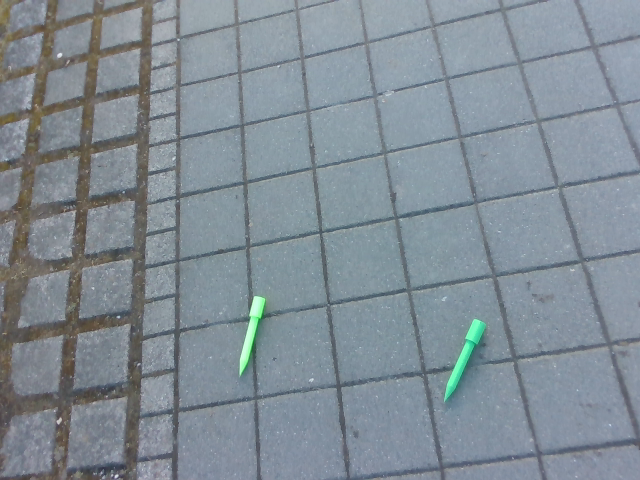Probe: (440, 311, 492, 408), (235, 286, 272, 379)
